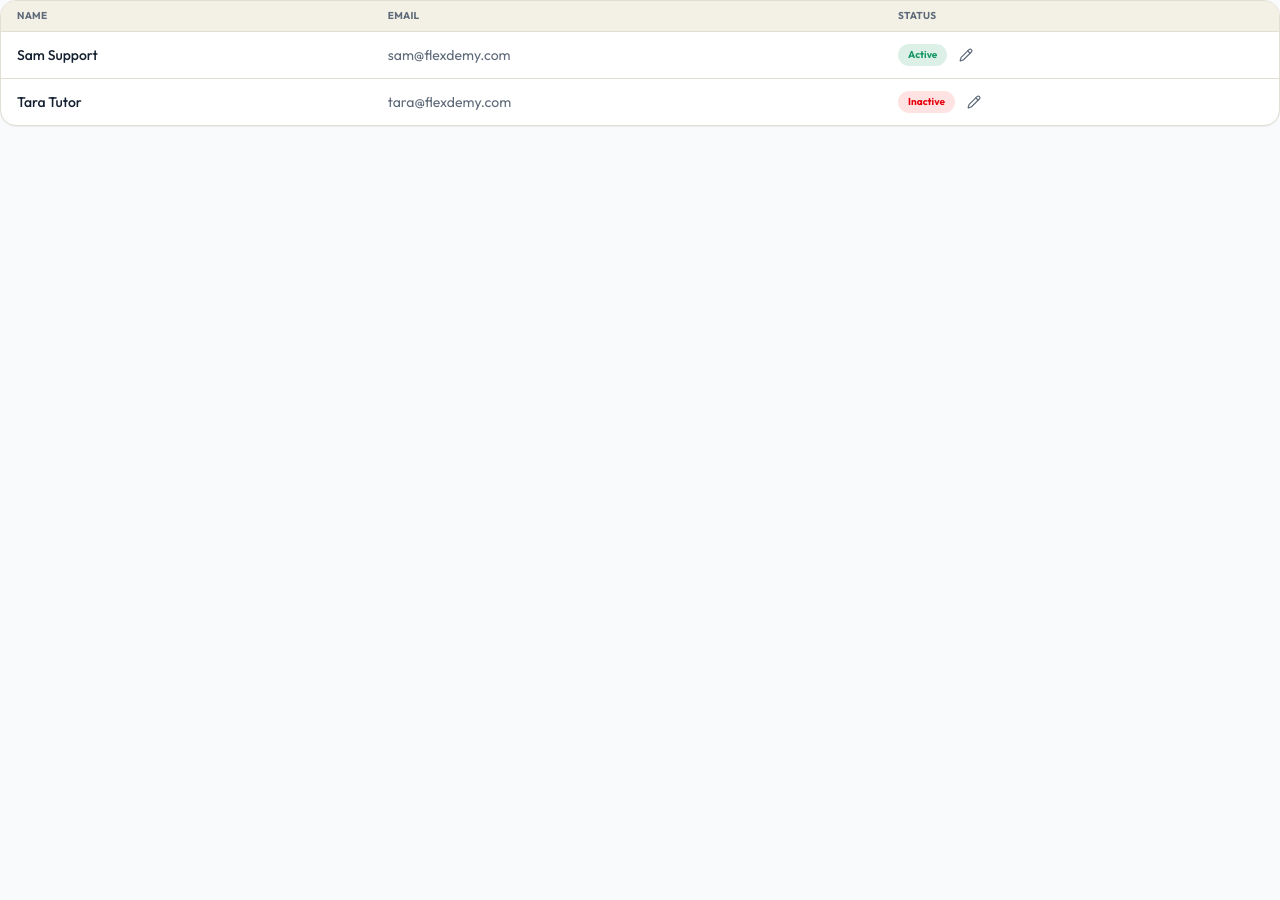
Scenario: AdminUserStatusList › edit (Support-user editing only, gated by the `editable` prop) › shows the service error (e.g. a 409 duplicate email) inline and keeps the panel open
This screenshot has width=1280, height=900.
Expected: the text "Sam Support" is shown, x1=1 y1=32 x2=372 y2=79
Click the button named "Edit Sam Support": (966, 55) x1=953 y1=42 x2=979 y2=68
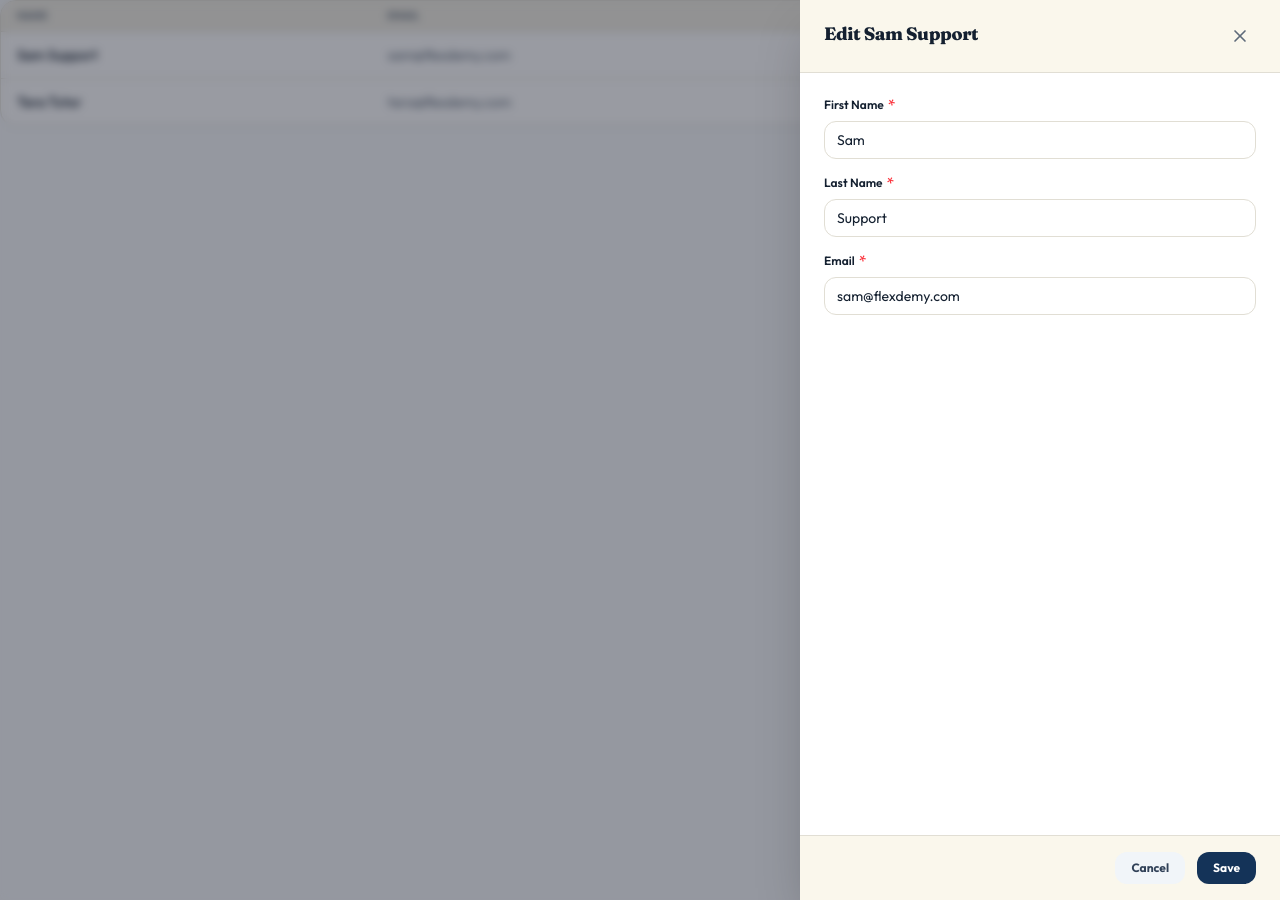
Replace the text in the field labelled "Email" with "taken@x.com": (1040, 296) x1=824 y1=277 x2=1256 y2=315
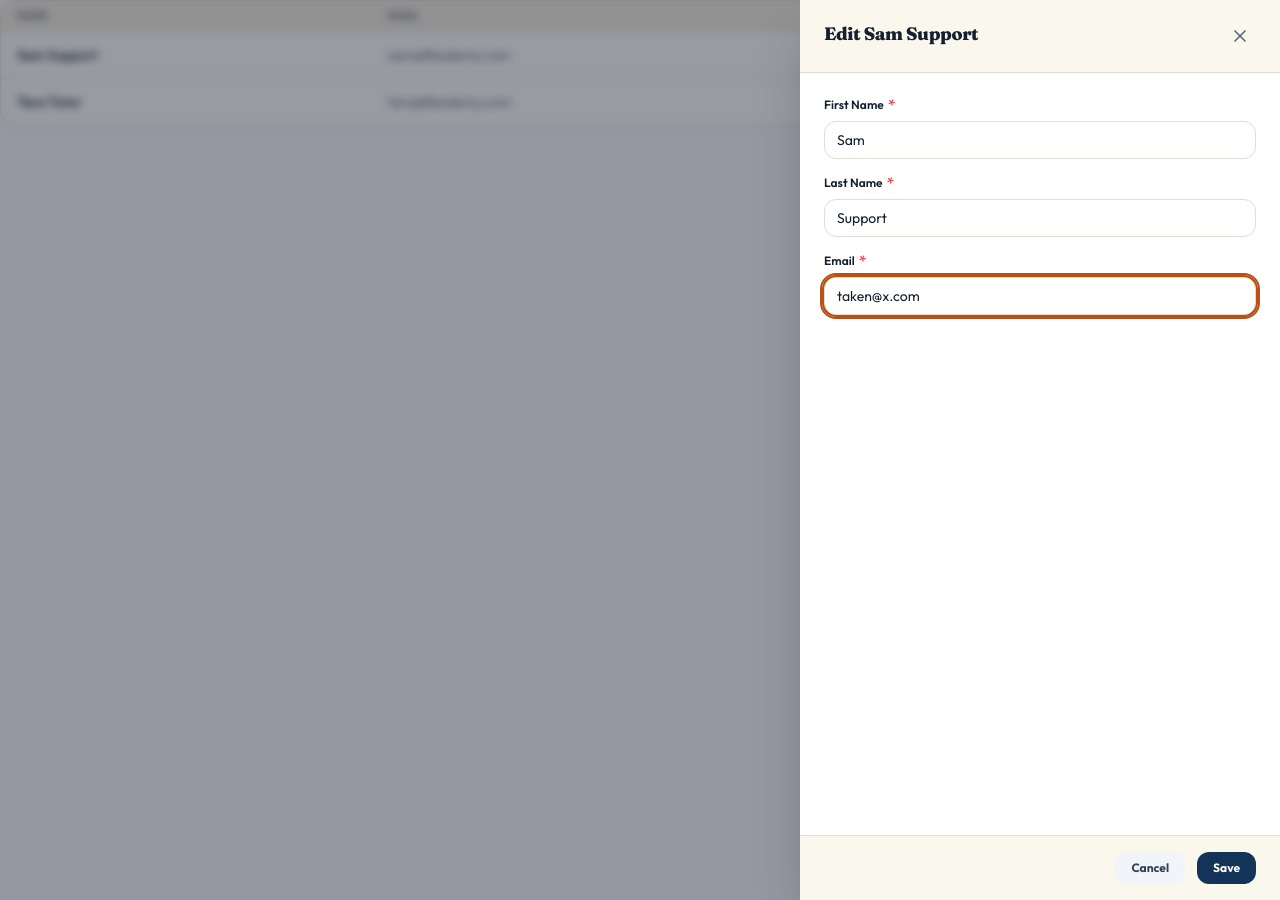
Click the button "Save": (1226, 868) x1=1197 y1=852 x2=1256 y2=884
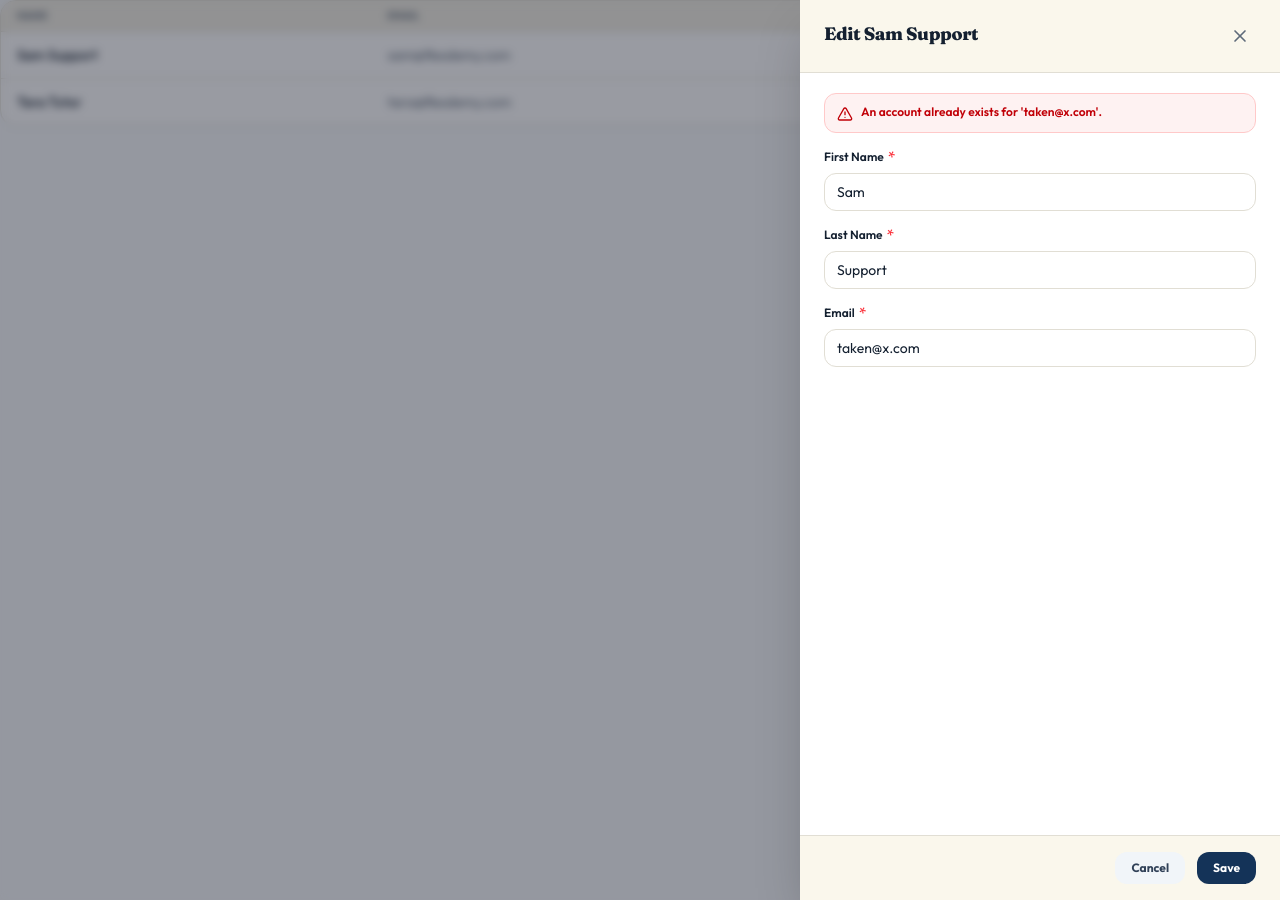
Expected: the dialog "Edit Sam Support" is shown, x1=800 y1=0 x2=1279 y2=899
Expected: the text "An account already exists for 'taken@x.com'." is shown, x1=861 y1=104 x2=1102 y2=120
